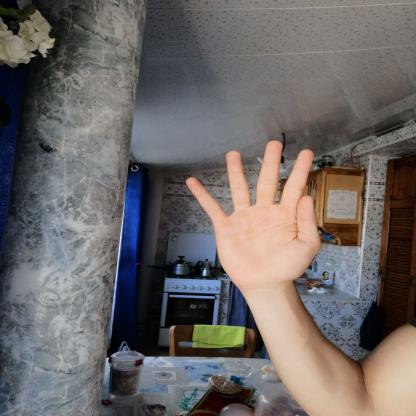SHEEN: (176, 132, 333, 290)
